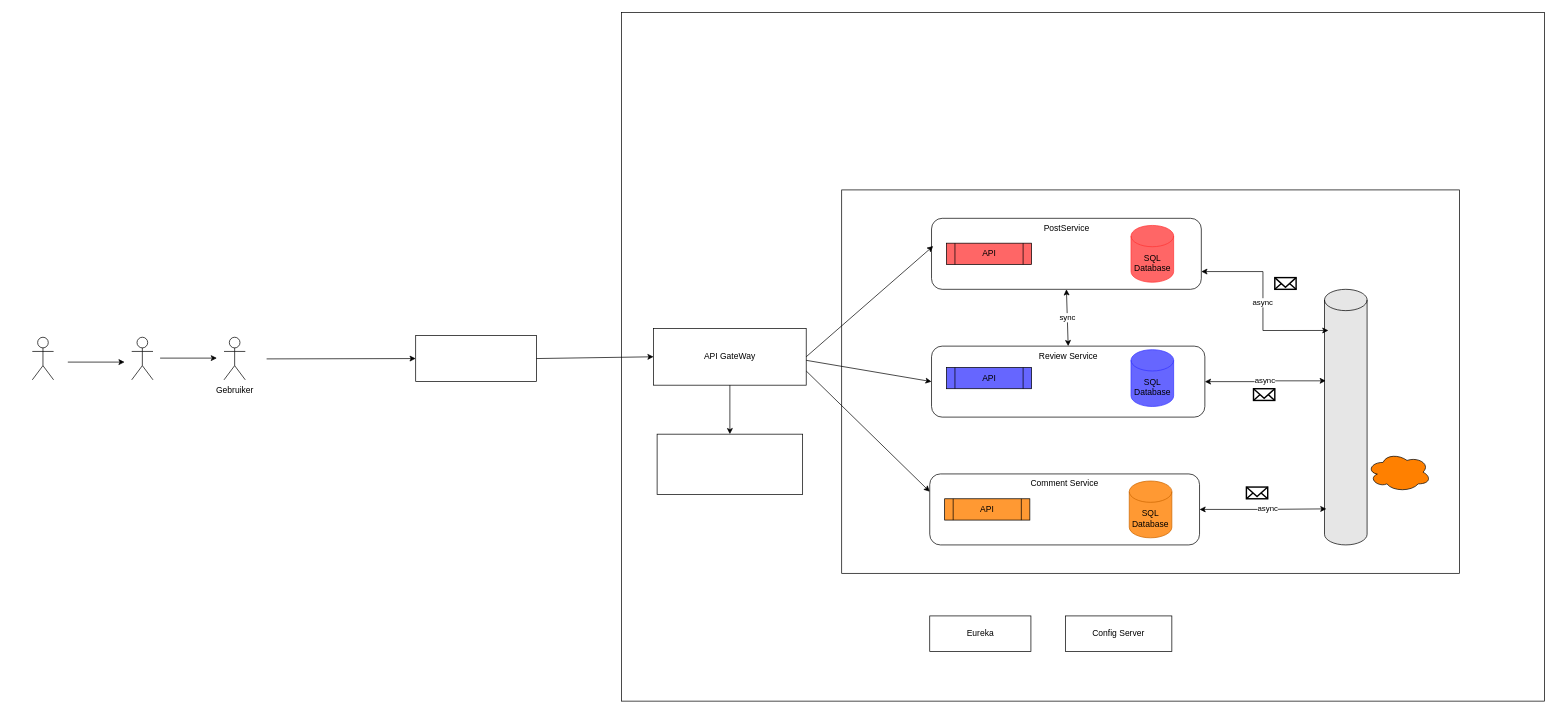
Image size: 1557x714. Some labels were removed from this diagram. Here are the shapes that lost their labels. From the top down, the centre of each, then its label:
the point at 43,358: HoofdRedacteur
the point at 142,358: Redacteur
the point at 475,358: Client [Angular]
the point at 1345,417: Eventbus
the point at 729,464: Auth Servcer [KeyCloak ]
the point at 1398,472: RabbitMQ
